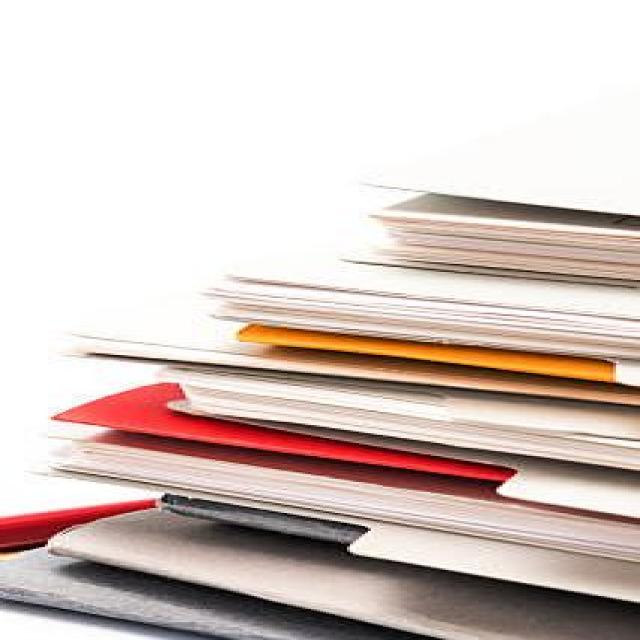electronic: (42, 502, 637, 638), (356, 88, 637, 223)
